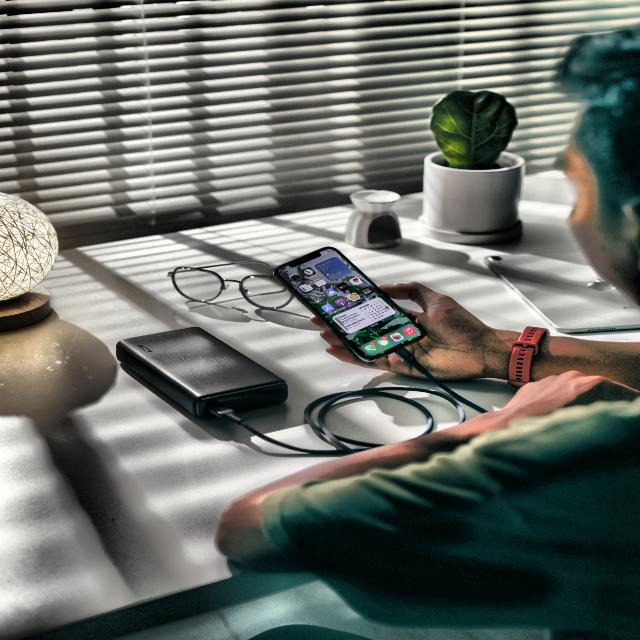PHONE: (274, 247, 425, 362)
Power bank: (116, 327, 288, 417)
